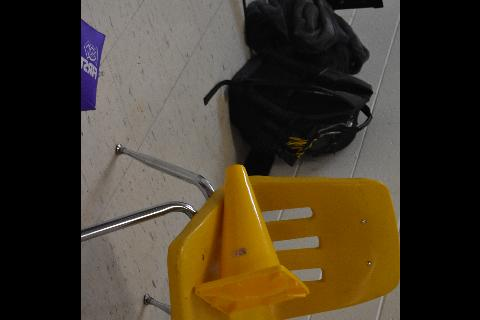cone: (193, 164, 311, 316)
cube: (80, 18, 106, 112)
